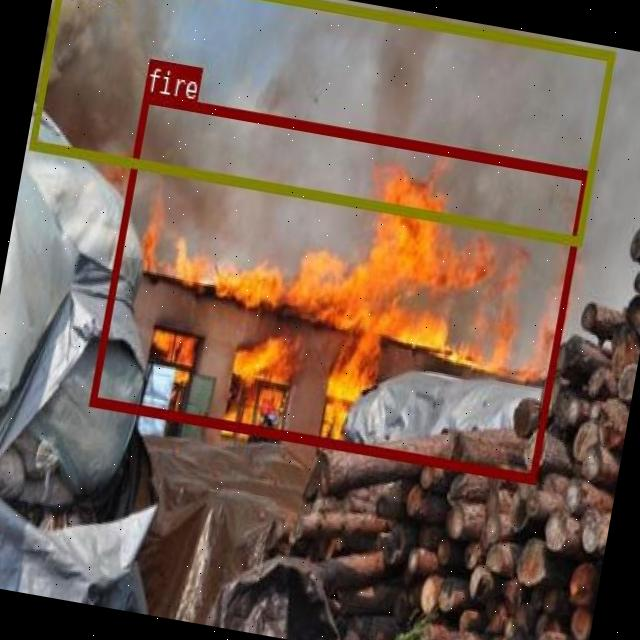fire: (88, 90, 589, 482)
smoke: (28, 0, 615, 245)
